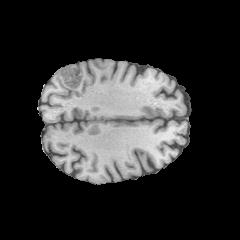glioma: (53, 64, 92, 91)
